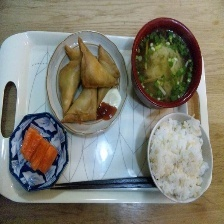rice: (149, 113, 212, 203)
